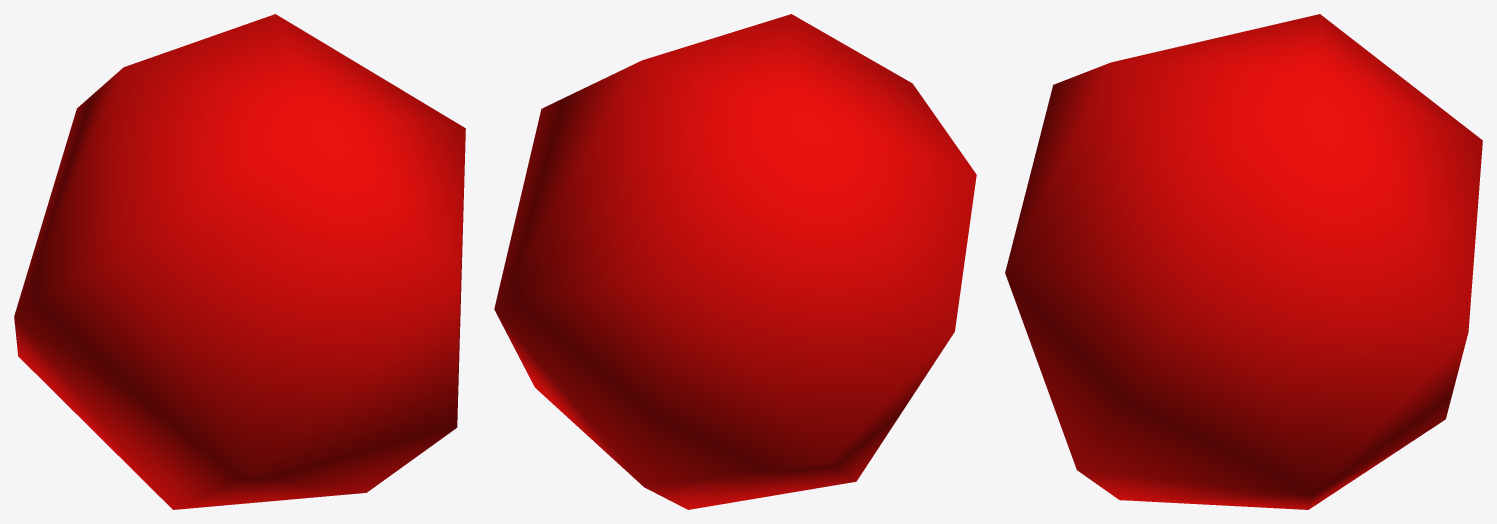
3 renders of one model, left to right at view 1: azimuth 30°, elevation 25°; view 2: azimuth 150°, elevation 25°; view 3: azimuth 270°, elevation 25°, orthographic. The views are drawn at different scales.
Visible parts, largest first — view 1: Sphere.003; view 2: Sphere.003; view 3: Sphere.003.
Part boxes in pixels (bbox=[...]): Sphere.003: bbox=[14, 14, 465, 509]; Sphere.003: bbox=[494, 14, 976, 509]; Sphere.003: bbox=[1005, 14, 1482, 509].
Bounding box in the file's own units: 31.49 × 30.58 × 28.89.
